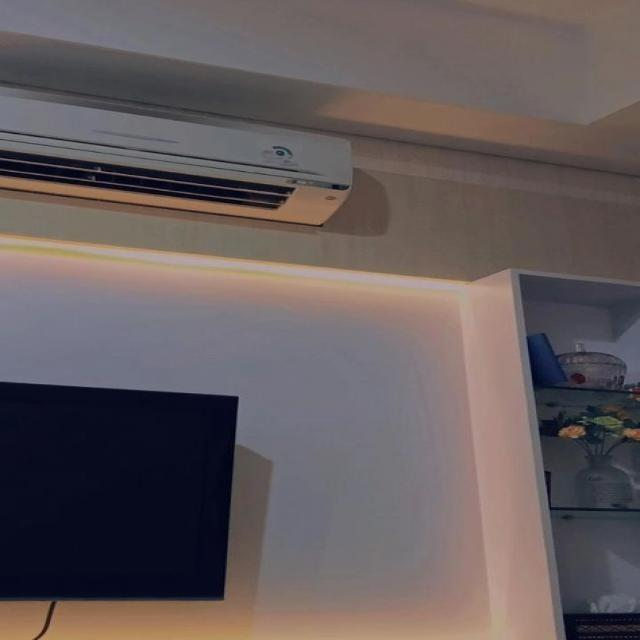AC: (0, 94, 352, 225)
AIO PC-Monitor-TV: (0, 380, 240, 601)
Rak: (513, 270, 639, 639)
